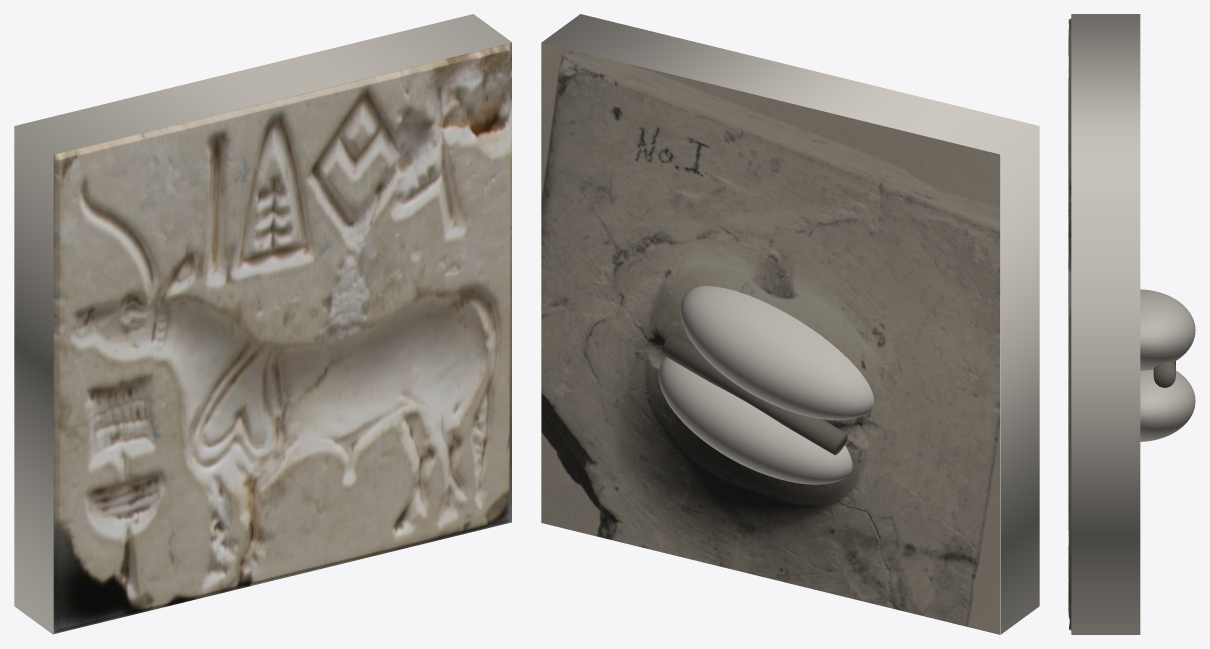
The picture shows the model from 3 angles, left to right: view 1: azimuth 30°, elevation 25°; view 2: azimuth 150°, elevation 25°; view 3: azimuth 270°, elevation 25°; orthographic projection. The views are drawn at different scales.
Visible parts, largest first — view 1: seal_face, seal_sides; view 2: seal_back, seal_sides, pierced_boss, boss_hole; view 3: seal_sides, pierced_boss, seal_face, boss_hole.
Boxes of the visible parts, <box> form: seal_face: <box>53,43,511,633</box>; seal_sides: <box>14,14,511,634</box>; seal_back: <box>541,42,1000,634</box>; seal_sides: <box>542,14,1039,634</box>; pierced_boss: <box>658,286,874,484</box>; boss_hole: <box>661,332,847,454</box>; seal_sides: <box>1071,14,1140,634</box>; pierced_boss: <box>1140,289,1195,441</box>; seal_face: <box>1068,18,1071,630</box>; boss_hole: <box>1153,361,1175,387</box>.
Size of the model in its own units: 3.8 by 3.8 by 1.03.
2 materials, 2 textured.
